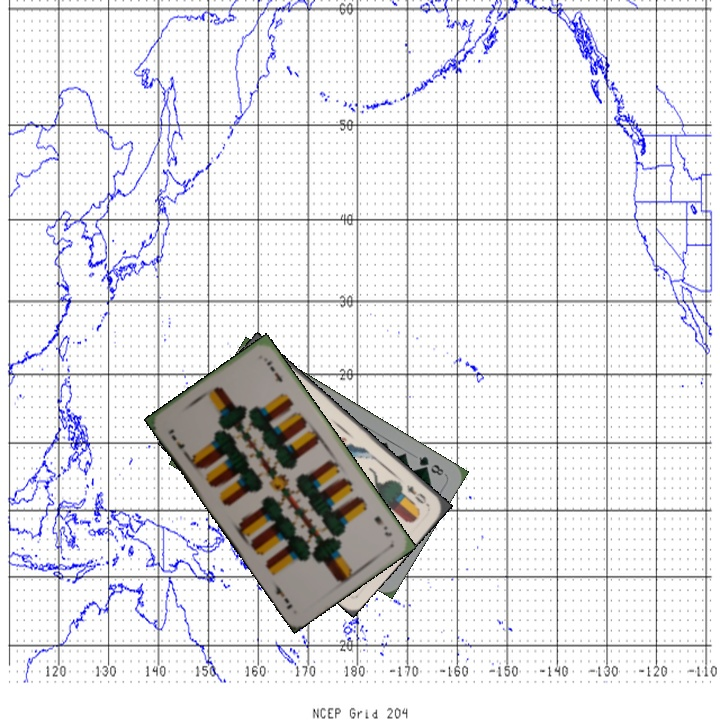E7: (370, 512, 394, 539), (164, 425, 187, 451)
EO: (402, 481, 431, 508)
G8: (414, 452, 446, 478)
